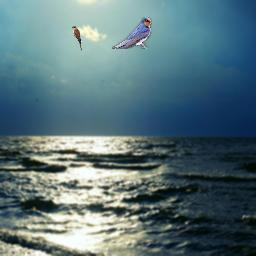Cuckoo: (72, 26, 82, 51)
Swallow: (112, 17, 152, 49)
